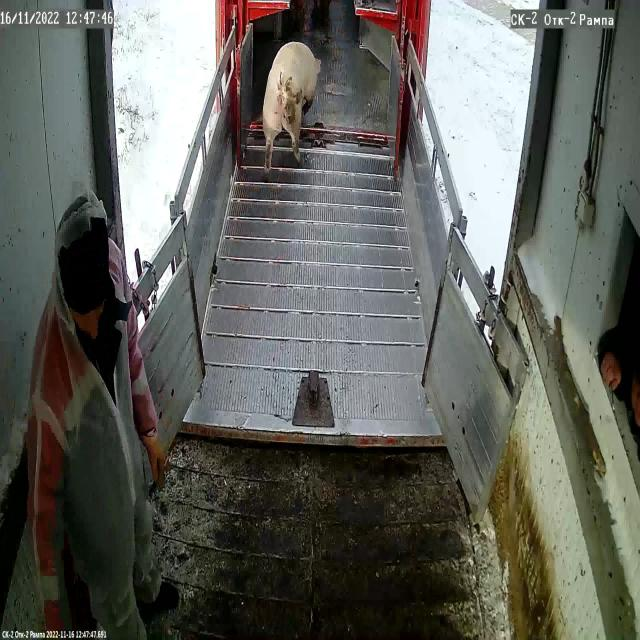pig: (262, 42, 321, 170)
